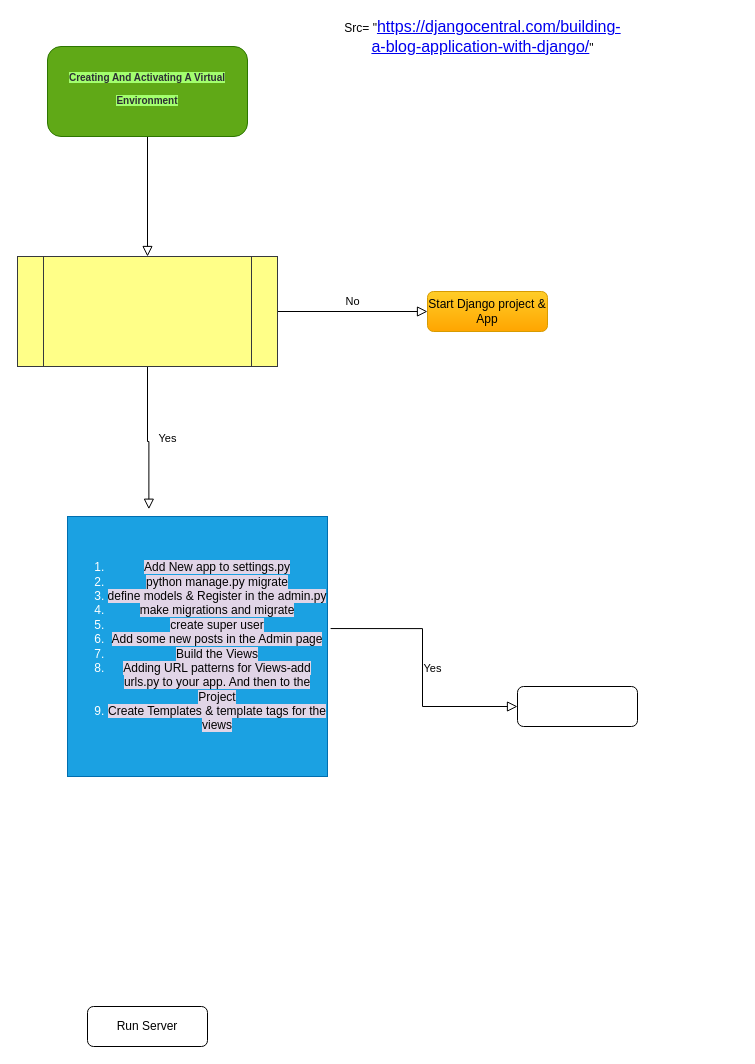
The diagram is 755 pixels wide and 1064 high, and some of its shapes have lost their labels. The shapes that lost their labels are listed below. From the top down, each one's centre as x and y in pixels, then its label:
At (147,311): "Installing Django In The Virtual Environment".
At (577,706): "Edit Template Tags".
